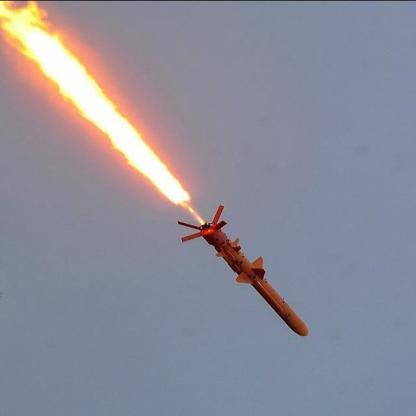MIL_TBM: (199, 221, 312, 337)
